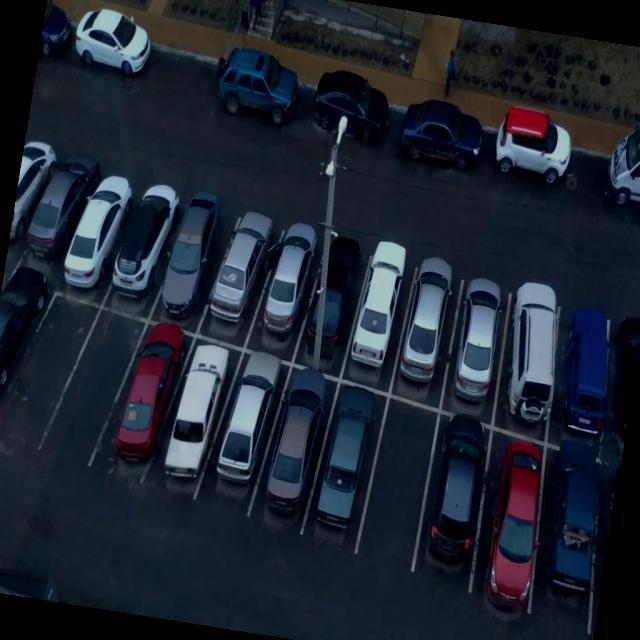space-empty: (0, 274, 98, 469), (355, 392, 439, 572), (57, 302, 138, 472)
space-occupied: (464, 424, 557, 627), (519, 433, 612, 634), (407, 399, 497, 602), (251, 358, 336, 553), (204, 339, 282, 528), (484, 274, 577, 432), (307, 375, 386, 559), (161, 328, 234, 518), (107, 317, 186, 485), (537, 298, 621, 448), (105, 168, 186, 321), (389, 247, 467, 405), (58, 158, 137, 300), (439, 272, 519, 410), (203, 198, 277, 343), (344, 229, 416, 377), (153, 188, 226, 332), (250, 211, 323, 354), (297, 225, 366, 368), (21, 159, 94, 270), (581, 455, 622, 634), (5, 148, 64, 272), (593, 320, 639, 464)
